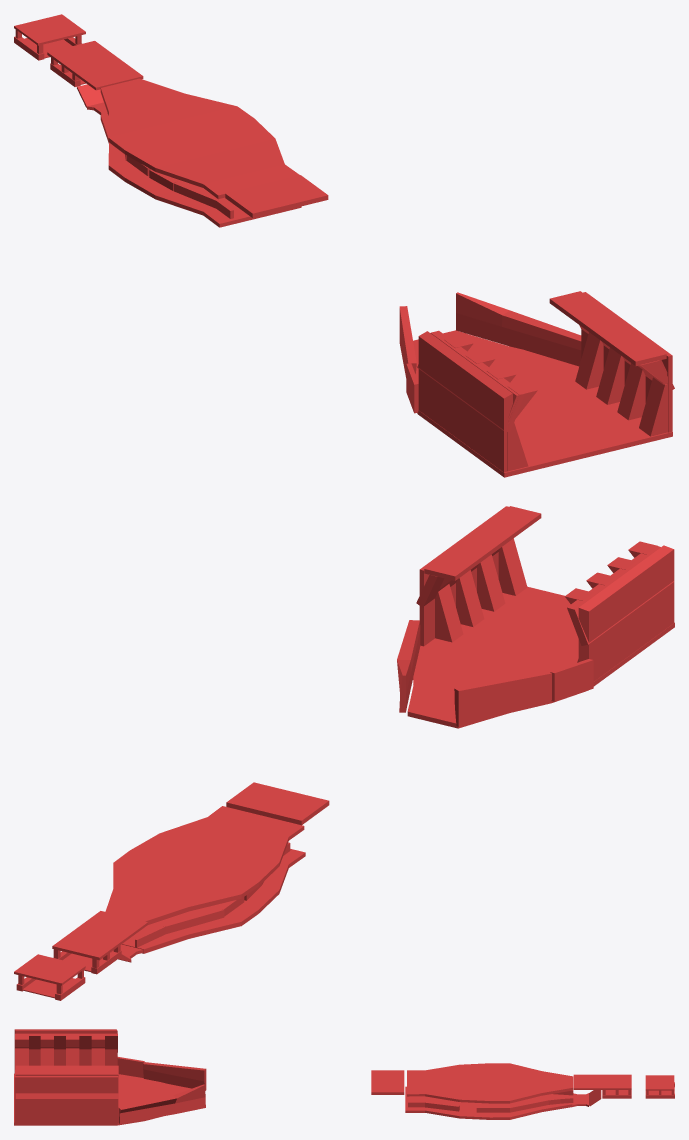
File: ColliderMesh.fbx
3 views of the same model, one above another, from view 1: azimuth 30°, elevation 25°; view 2: azimuth 150°, elevation 25°; view 3: azimuth 270°, elevation 25° (orthographic). The views are drawn at different scales.
Visible parts, largest first — view 1: Cube.130, Cube.148, Cube.170, Cube.253, Cube.171, Cube.131, Cube.147, Cube.128, Cube.118, Cube.155, Cube.169, Cube.153 (+4 smaller); view 2: Cube.130, Cube.148, Cube.170, Cube.252, Cube.131, Cube.171, Cube.147, Cube.128, Cube.253, Cube.169, Cube.167, Cube.118 (+5 smaller); view 3: Cube.130, Cube.169, Cube.131, Cube.148, Cube.253, Cube.170, Cube.252, Cube.171, Cube.173, Cube.128, Cube.147, Cube.172 (+14 smaller).
Boxes of the visible parts, x1=… form: Cube.130: x1=100, y1=78, x2=299, y2=199; Cube.148: x1=413, y1=330, x2=672, y2=477; Cube.170: x1=418, y1=331, x2=512, y2=472; Cube.253: x1=456, y1=292, x2=581, y2=366; Cube.171: x1=549, y1=291, x2=666, y2=365; Cube.131: x1=100, y1=114, x2=301, y2=227; Cube.147: x1=225, y1=175, x2=328, y2=217; Cube.128: x1=47, y1=41, x2=143, y2=90; Cube.118: x1=14, y1=14, x2=85, y2=45; Cube.155: x1=639, y1=377, x2=667, y2=436; Cube.169: x1=581, y1=292, x2=672, y2=432; Cube.153: x1=617, y1=363, x2=645, y2=420; Cube.130: x1=105, y1=806, x2=304, y2=924; Cube.148: x1=407, y1=586, x2=674, y2=728; Cube.170: x1=578, y1=545, x2=674, y2=681; Cube.252: x1=454, y1=670, x2=551, y2=726; Cube.131: x1=122, y1=849, x2=305, y2=953; Cube.171: x1=424, y1=506, x2=541, y2=580; Cube.147: x1=226, y1=782, x2=329, y2=825; Cube.128: x1=52, y1=911, x2=147, y2=960; Cube.253: x1=397, y1=620, x2=420, y2=712; Cube.169: x1=419, y1=506, x2=508, y2=646; Cube.167: x1=550, y1=659, x2=593, y2=701; Cube.118: x1=14, y1=954, x2=85, y2=985; Cube.130: x1=407, y1=1063, x2=573, y2=1103; Cube.169: x1=14, y1=1076, x2=118, y2=1123; Cube.131: x1=405, y1=1086, x2=573, y2=1119; Cube.148: x1=14, y1=1073, x2=191, y2=1125; Cube.253: x1=118, y1=1084, x2=205, y2=1123; Cube.170: x1=14, y1=1029, x2=117, y2=1073; Cube.252: x1=143, y1=1062, x2=206, y2=1090; Cube.171: x1=15, y1=1065, x2=118, y2=1076; Cube.173: x1=15, y1=1033, x2=117, y2=1052; Cube.128: x1=573, y1=1074, x2=631, y2=1089; Cube.147: x1=371, y1=1070, x2=404, y2=1094; Cube.172: x1=15, y1=1077, x2=118, y2=1098.
Size of what is drawn, in the model's own units: 8217 by 3621 by 43552.
